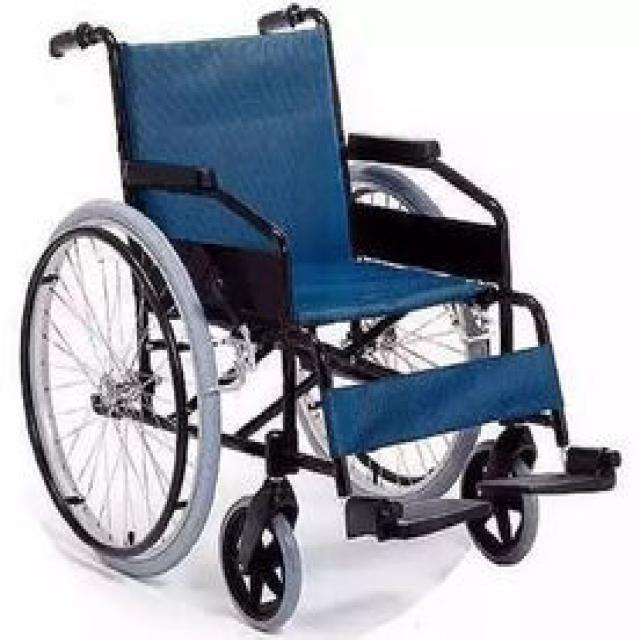wheelchair: (5, 2, 612, 638)
